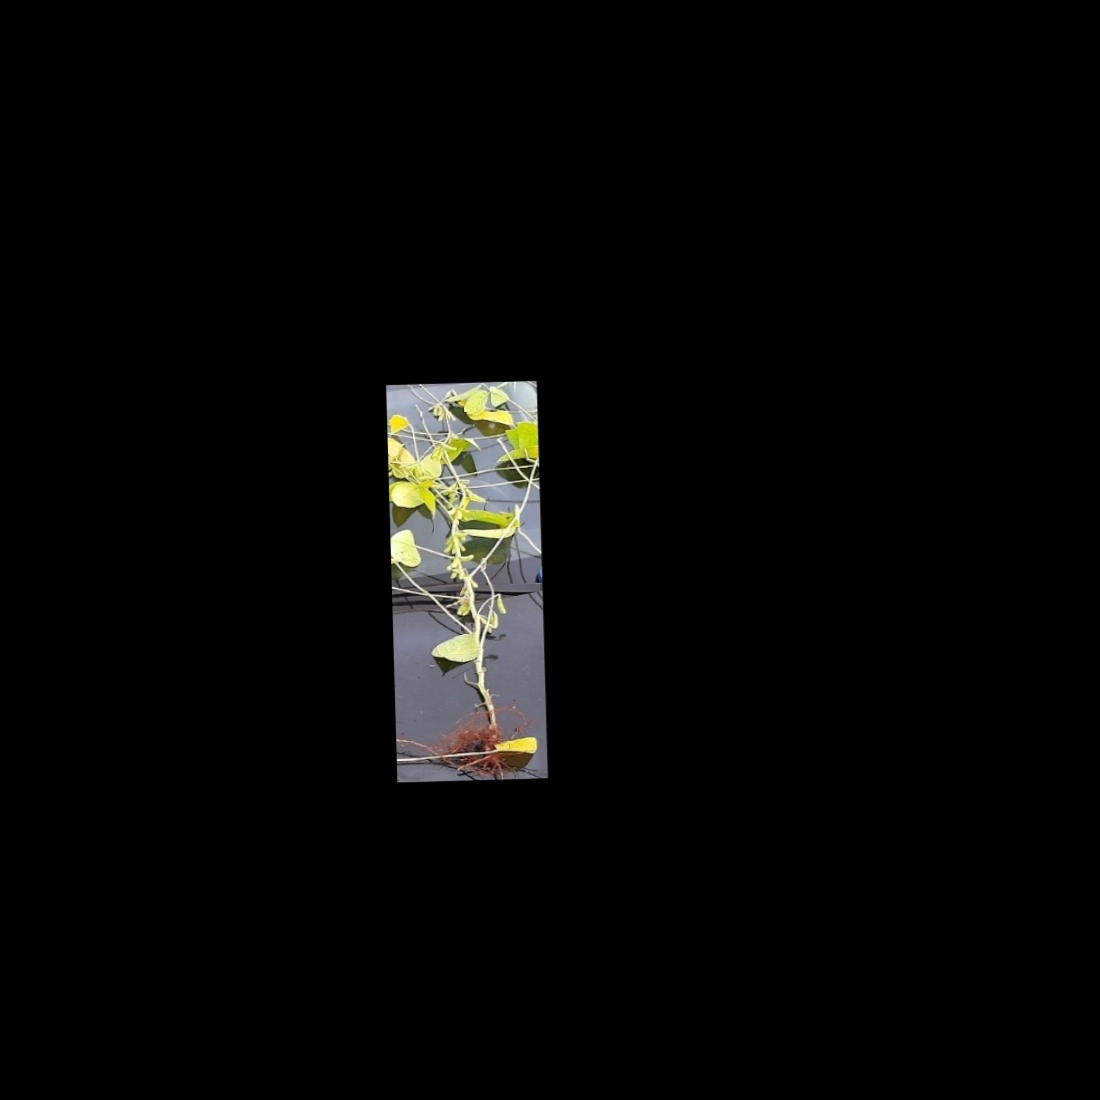pod: (494, 593, 508, 617), (455, 552, 476, 564), (442, 538, 454, 555), (449, 531, 469, 540)
soy: (389, 388, 540, 770)
